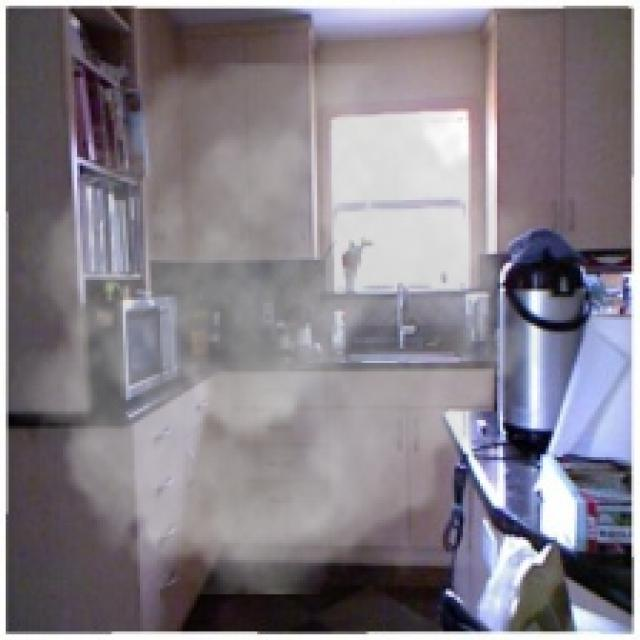smoke: (3, 63, 551, 594)
